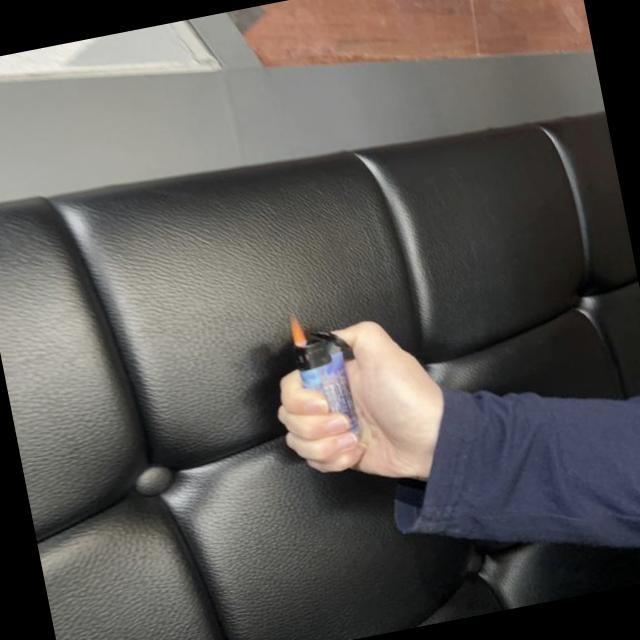fire: (285, 312, 309, 352)
